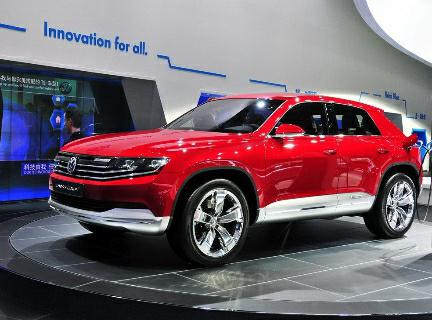大众-CrossCoupe: (43, 91, 423, 269)
